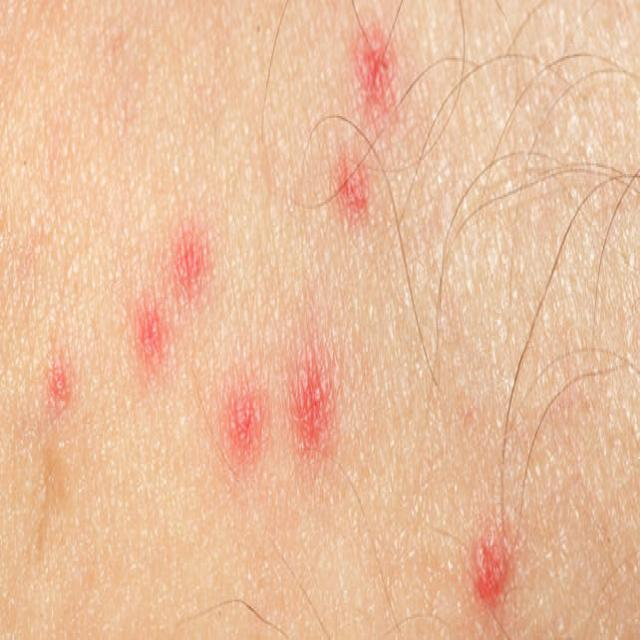kan emici bocekler: (349, 18, 405, 128), (287, 336, 337, 450), (469, 519, 519, 615), (128, 286, 179, 380), (169, 221, 217, 289), (224, 384, 269, 455), (336, 157, 377, 234), (43, 343, 79, 424)
